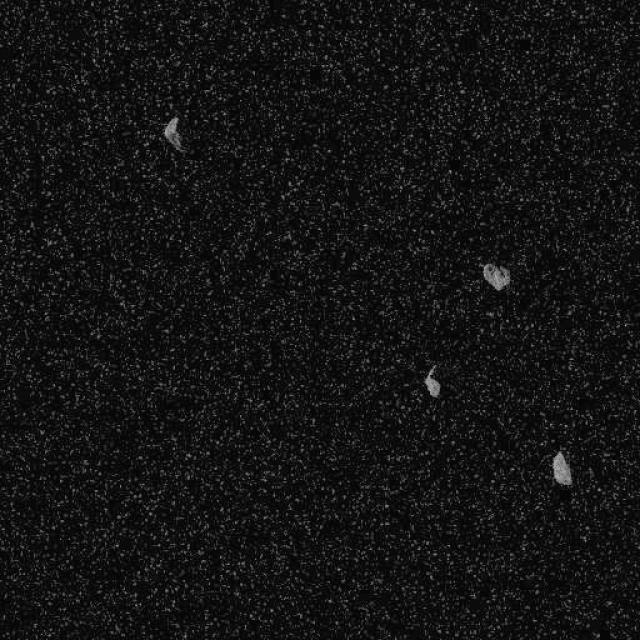D2: (161, 115, 185, 153), (481, 261, 510, 291), (550, 450, 572, 486), (422, 363, 442, 398)
